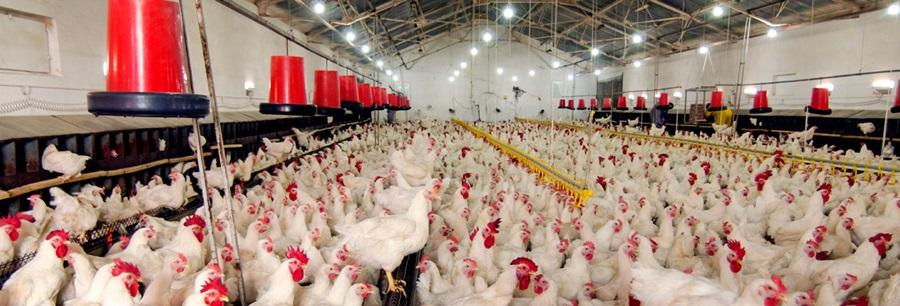chicken: (346, 186, 441, 289), (636, 241, 746, 303), (0, 232, 70, 306), (464, 259, 539, 304), (259, 244, 309, 302), (41, 144, 88, 180)
